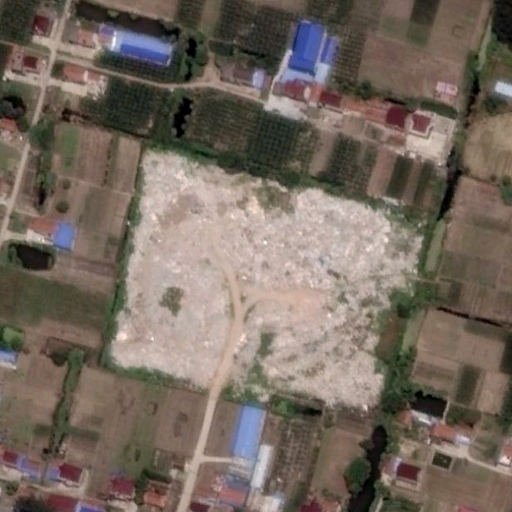msw: (113, 152, 423, 426)
